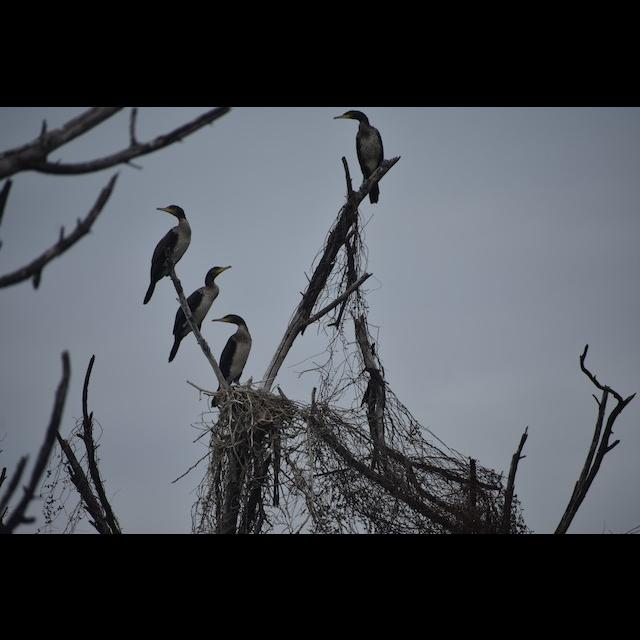cormorant: (326, 107, 394, 205), (136, 204, 192, 288), (211, 309, 251, 399), (198, 256, 238, 300)
